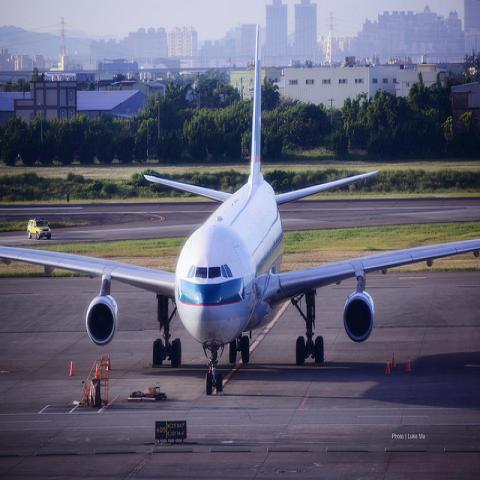car: (27, 219, 52, 240)
